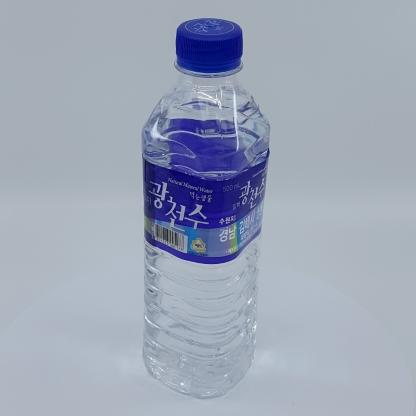----------500ML: (141, 18, 271, 401)
